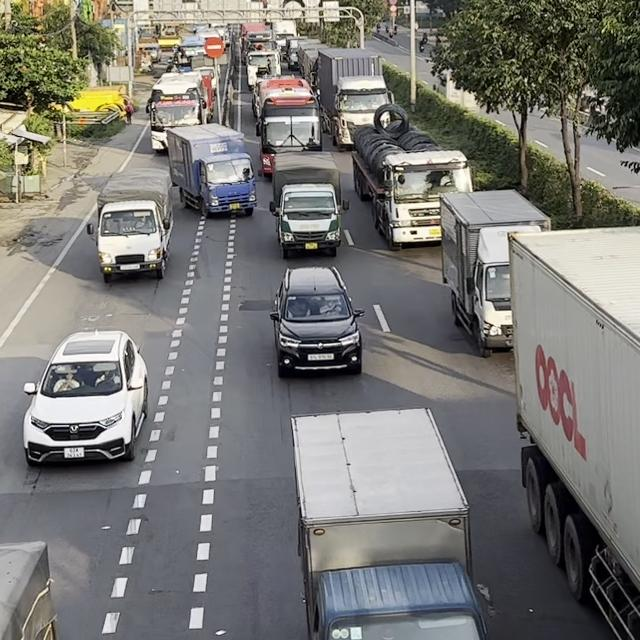bus: (252, 75, 322, 176), (146, 69, 215, 154)
car: (21, 328, 149, 466), (269, 265, 365, 377)
truck: (507, 223, 639, 639), (289, 405, 489, 639), (438, 187, 552, 357), (351, 103, 473, 251), (86, 167, 174, 282), (165, 122, 257, 218), (268, 153, 349, 259), (314, 47, 396, 151), (0, 539, 59, 639)
